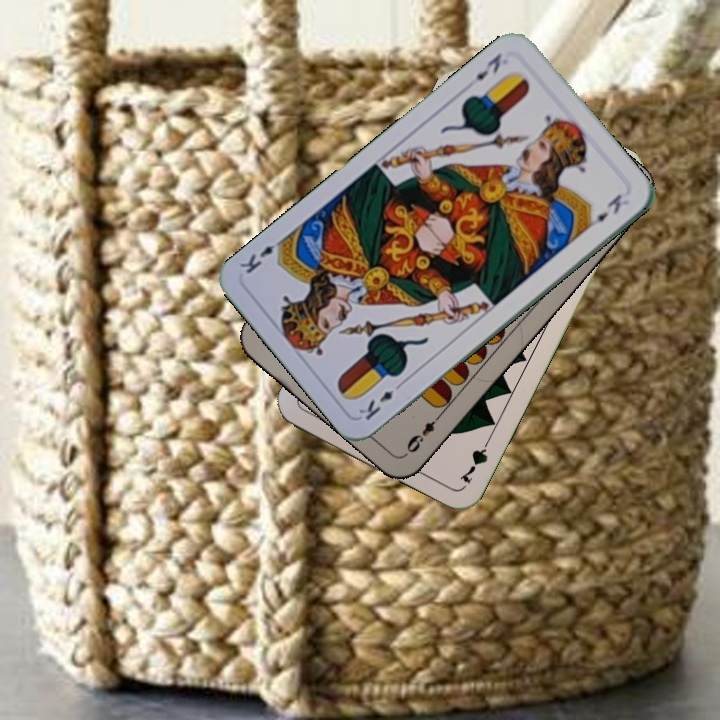E9: (401, 409, 445, 458)
EK: (354, 377, 407, 424), (462, 48, 505, 89)
G7: (455, 432, 494, 487)
